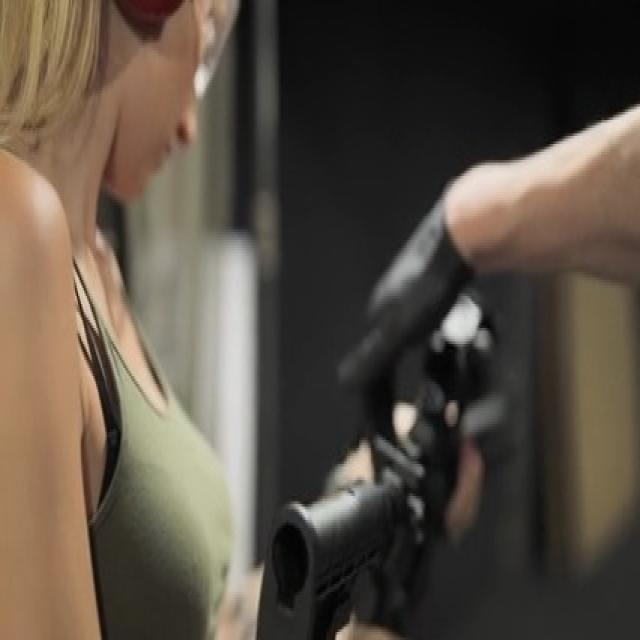Gun_Holder: (210, 243, 640, 640)
Person: (0, 1, 298, 640)
